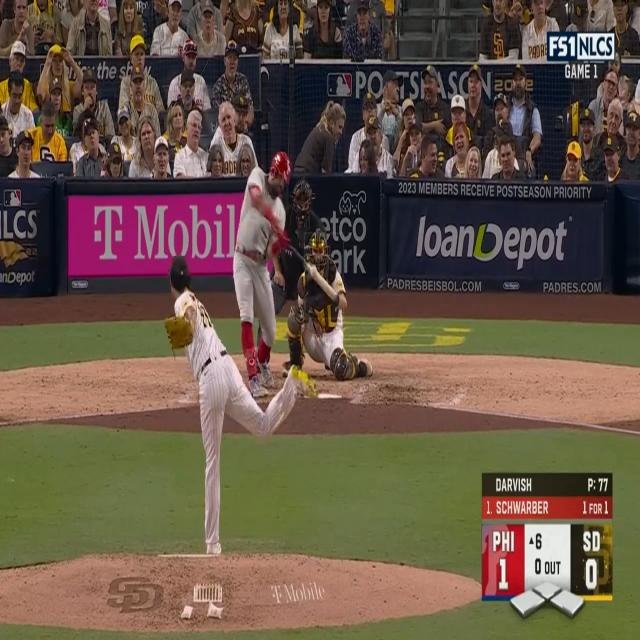baseball: (310, 265, 318, 277)
